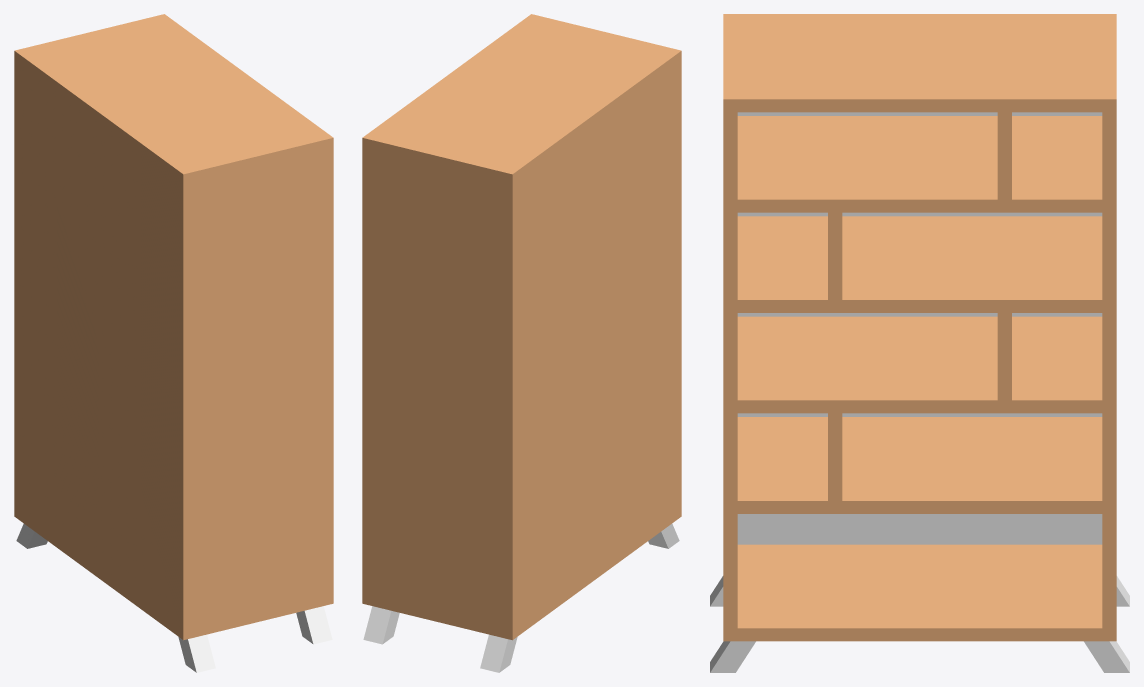
File: Bookshelf.fbx
3 renders of one model, left to right at view 1: azimuth 30°, elevation 25°; view 2: azimuth 150°, elevation 25°; view 3: azimuth 270°, elevation 25°, orthographic. The views are drawn at different scales.
Parts seen in each view (by area): view 1: Cube; view 2: Cube; view 3: Cube.
Boxes of the visible parts, x1,y1,x2,y2 form: Cube: (14,14,333,672); Cube: (362,14,681,672); Cube: (710,14,1129,672).
Bounding box in the file's own units: 77.31 × 244 × 161.
